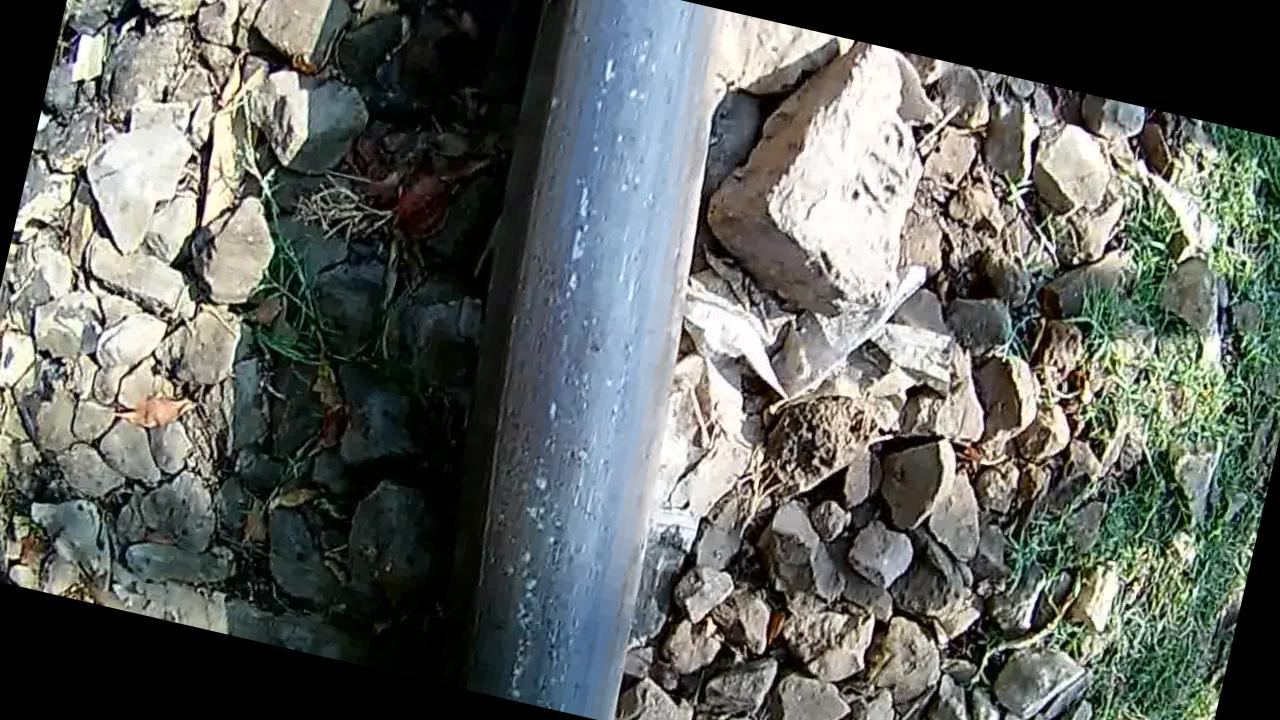clip_missing: (415, 0, 751, 713)
